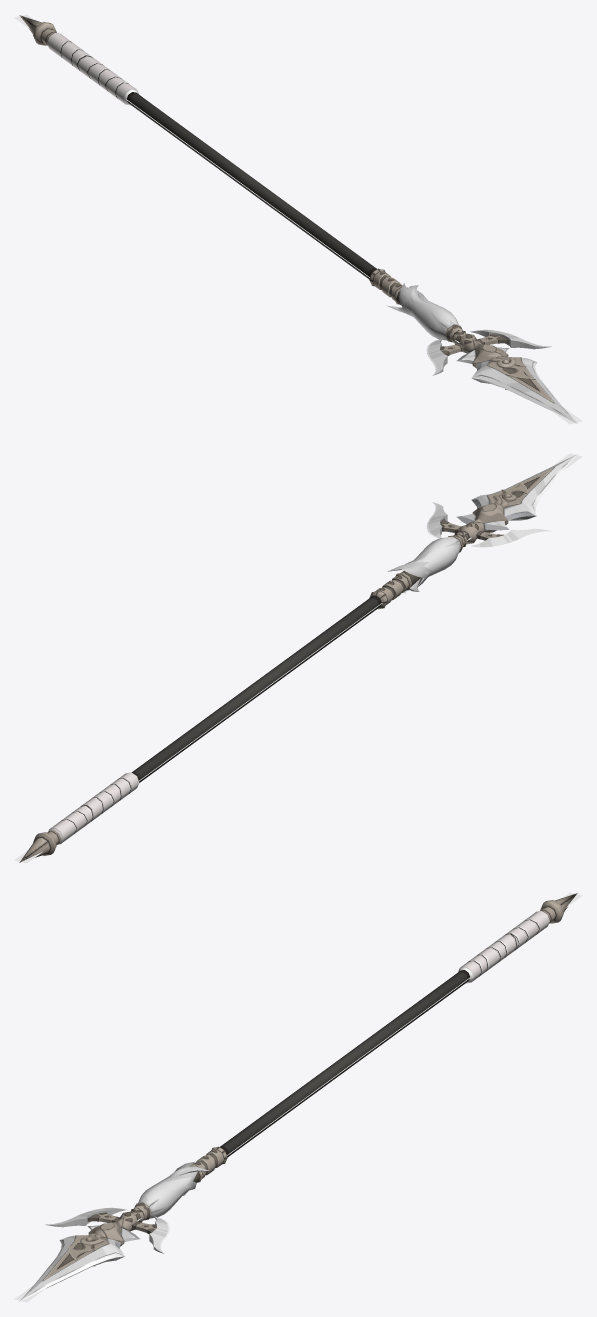
Rendered from Equip_Pole_Ruby.fbx.
3 renders of one model, top to bottom at view 1: azimuth 30°, elevation 25°; view 2: azimuth 150°, elevation 25°; view 3: azimuth 330°, elevation 25°, orthographic.
Parts seen in each view (by area): view 1: Equip_Pole_Ruby_Model, Equip_Pole_EffectMesh; view 2: Equip_Pole_Ruby_Model, Equip_Pole_EffectMesh; view 3: Equip_Pole_Ruby_Model, Equip_Pole_EffectMesh.
Part boxes in pixels (x1,y1,x2,y2): Equip_Pole_Ruby_Model: (19,15,577,423); Equip_Pole_EffectMesh: (14,14,582,424); Equip_Pole_Ruby_Model: (19,454,577,862); Equip_Pole_EffectMesh: (14,453,582,863); Equip_Pole_Ruby_Model: (19,893,577,1301); Equip_Pole_EffectMesh: (14,892,582,1302).
Size of the model in its own units: 0.2623 by 0.0573 by 2.12.
